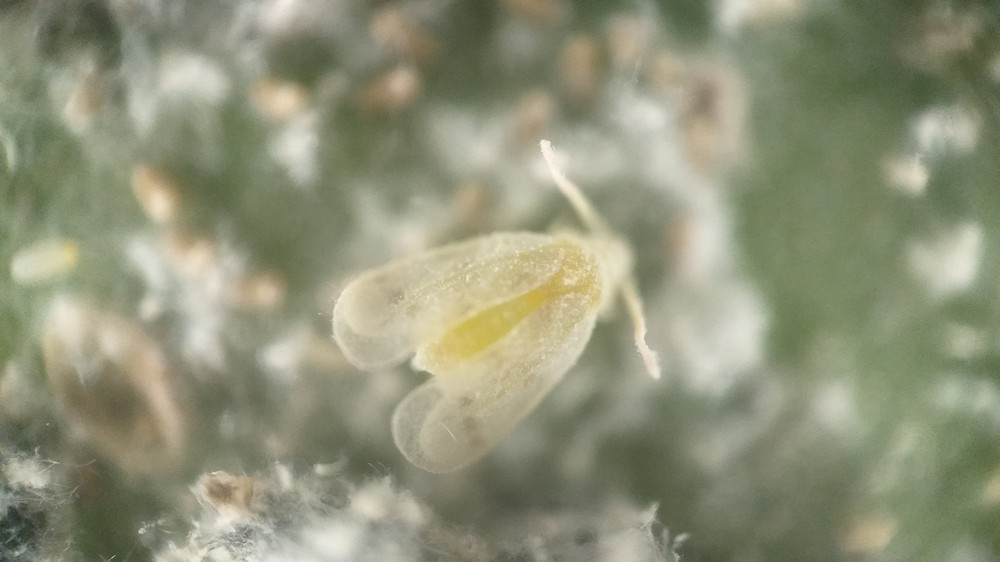Mosca Blanca: (319, 135, 689, 497)
